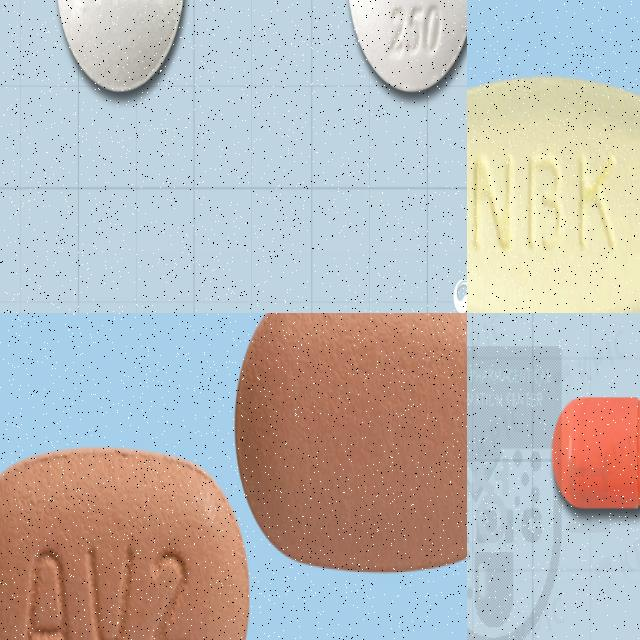Exviera: (235, 313, 467, 571), (0, 445, 250, 640)
Lathrocin-500mg: (467, 72, 640, 313)
Loxin: (56, 0, 186, 94), (346, 0, 467, 92)
Myungmoon Cefixime Cap: (551, 396, 640, 511)
